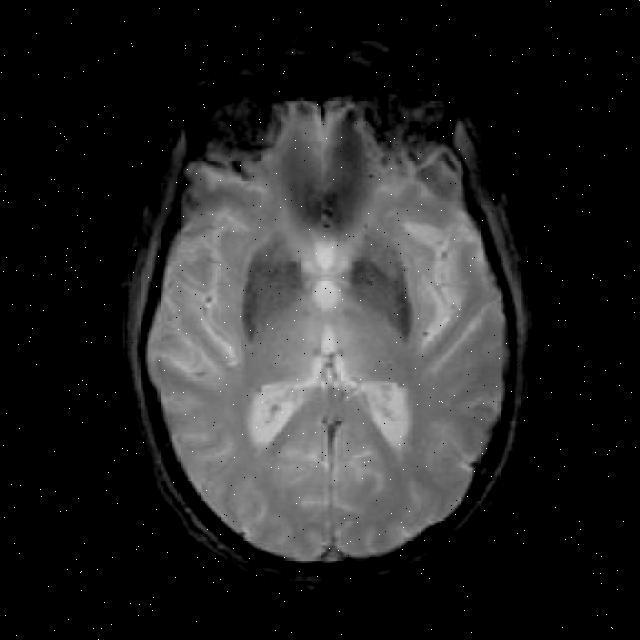LMCI: (295, 136, 373, 232), (246, 232, 306, 340), (360, 258, 436, 326)
